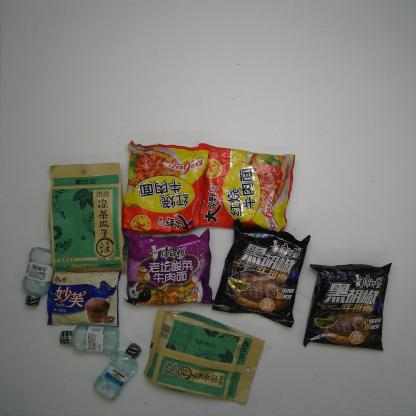Dessert: (39, 267, 125, 330)
Dried Food: (144, 300, 270, 408), (45, 156, 127, 276)
Instant Noodles: (211, 214, 312, 328), (298, 257, 400, 357), (194, 139, 298, 235), (116, 135, 212, 236), (120, 225, 217, 310)
Personal Hygiene: (93, 340, 142, 400), (54, 318, 122, 361), (20, 246, 62, 307)
